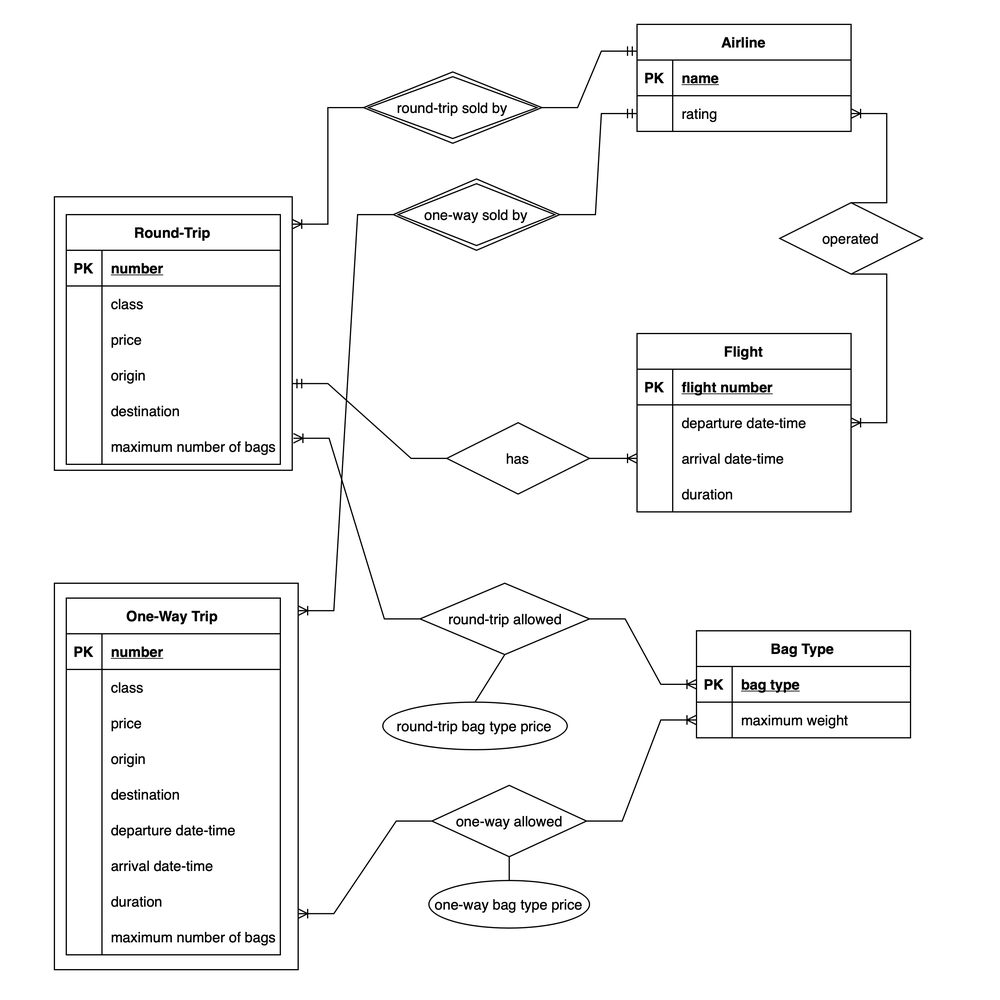attribute: (376, 688, 578, 752), (429, 872, 598, 931)
entity: (48, 575, 315, 974), (45, 191, 298, 480), (621, 328, 868, 517), (628, 15, 859, 138), (696, 620, 917, 745)
relationship: (354, 64, 548, 147), (414, 577, 595, 660), (395, 176, 561, 257), (779, 198, 929, 283), (441, 414, 588, 496), (428, 787, 580, 858)
